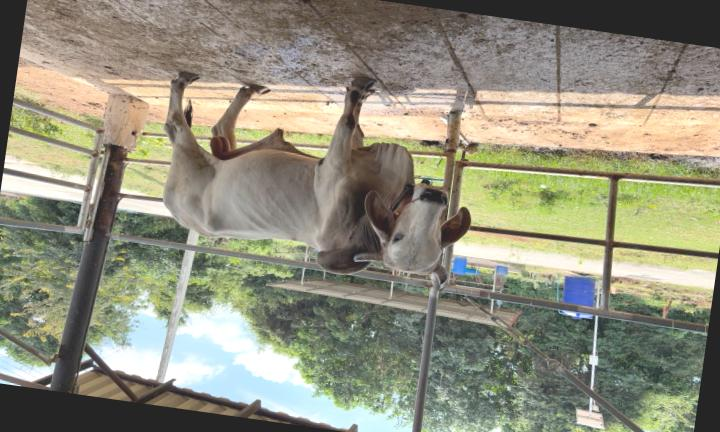Brahman: (163, 73, 469, 284)
